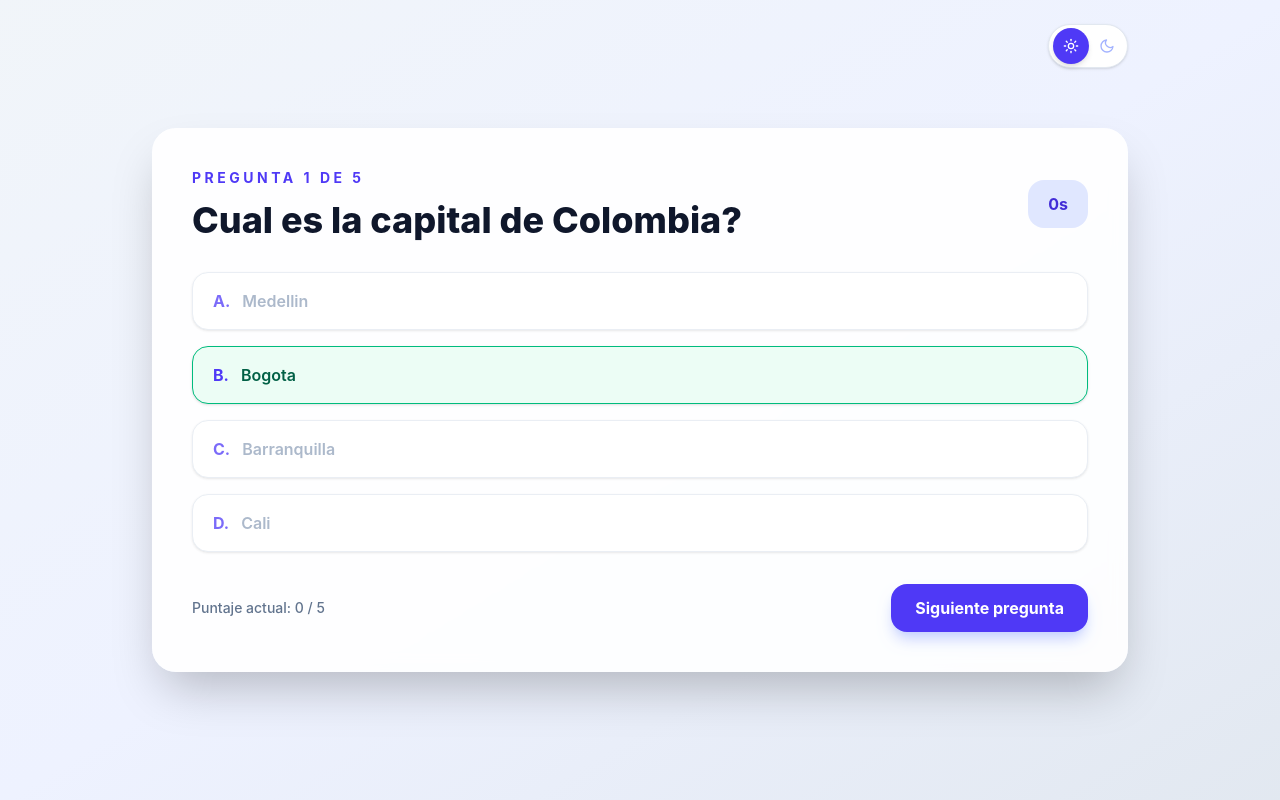
Test case: Country Quiz UI › marca la pregunta como erronea cuando el temporizador llega a cero
The width and height of the screenshot is (1280, 800).
Expected: the text "0s" is shown, [1028,180,1088,228]
Expected: the text "Puntaje actual: 0 / 5" is shown, [192,598,325,618]
Click the button "Siguiente pregunta".
click(990, 608)  # box [891,584,1088,632]
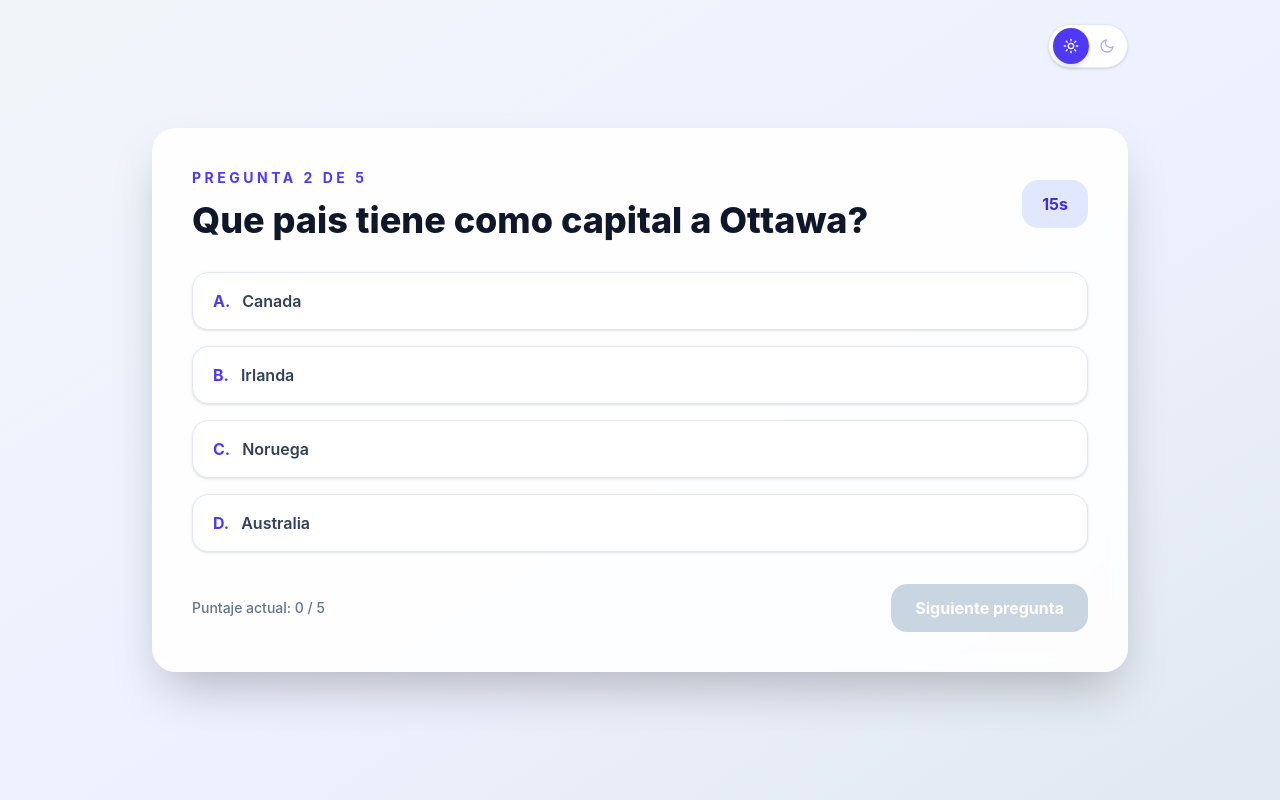
Expected: the heading "Que pais tiene como capital a Ottawa?" is shown, [192,200,868,240]
